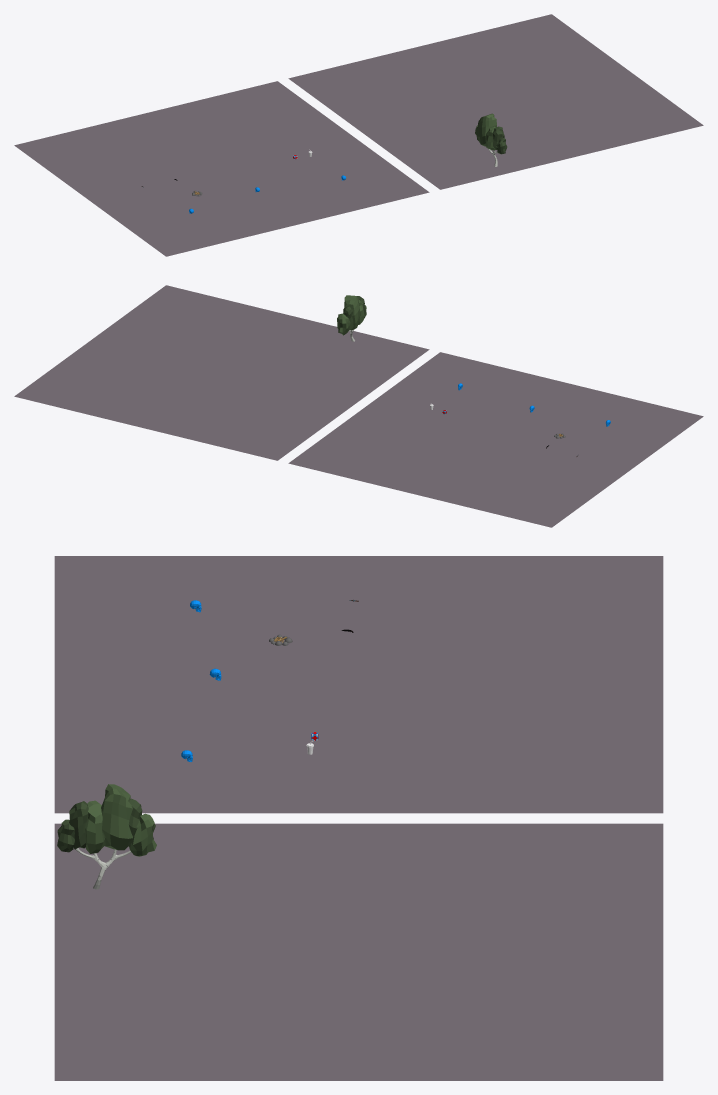
3 views of the same model, one above another, from view 1: azimuth 30°, elevation 25°; view 2: azimuth 150°, elevation 25°; view 3: azimuth 270°, elevation 25° (orthographic). The views are drawn at different scales.
Visible parts, largest first — view 1: ground, groundForest, forest; view 2: groundForest, ground, forest; view 3: ground, groundForest, forest.
Boxes of the visible parts, box(x1,y1,x2,y2) form: ground: box(14, 81, 429, 256); groundForest: box(288, 14, 703, 189); forest: box(475, 113, 507, 166); groundForest: box(14, 285, 429, 460); ground: box(288, 352, 703, 527); forest: box(337, 295, 366, 341); ground: box(54, 556, 663, 813); groundForest: box(54, 823, 663, 1080); forest: box(57, 784, 156, 889).
Bounding box in the file's own units: 204 × 17.79 × 100.
55 materials, 1 textured.
